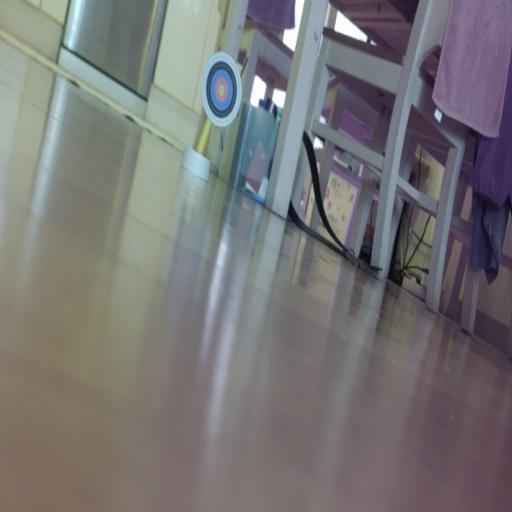target: (201, 52, 242, 127)
